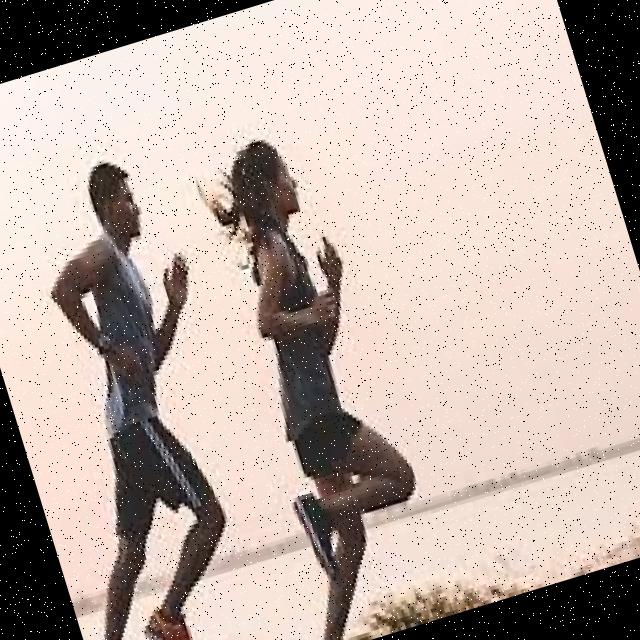Person: (154, 124, 458, 640), (0, 142, 311, 640)
